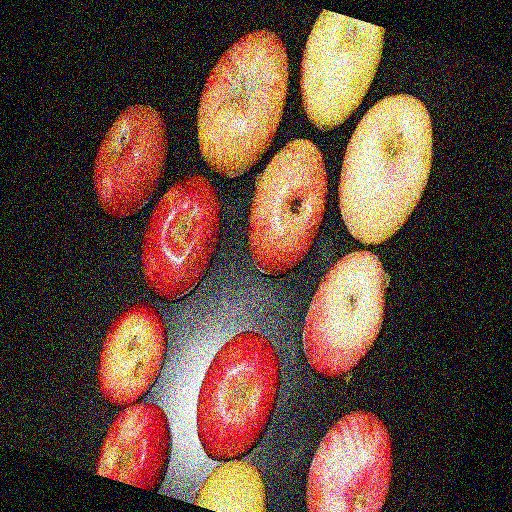fruit: (16, 85, 396, 464), (0, 138, 370, 512), (0, 30, 376, 360), (0, 198, 395, 512), (131, 194, 429, 512), (160, 98, 452, 417), (81, 232, 384, 512), (119, 21, 432, 256), (272, 169, 483, 512), (295, 117, 490, 358), (320, 282, 477, 512), (265, 15, 481, 153)
